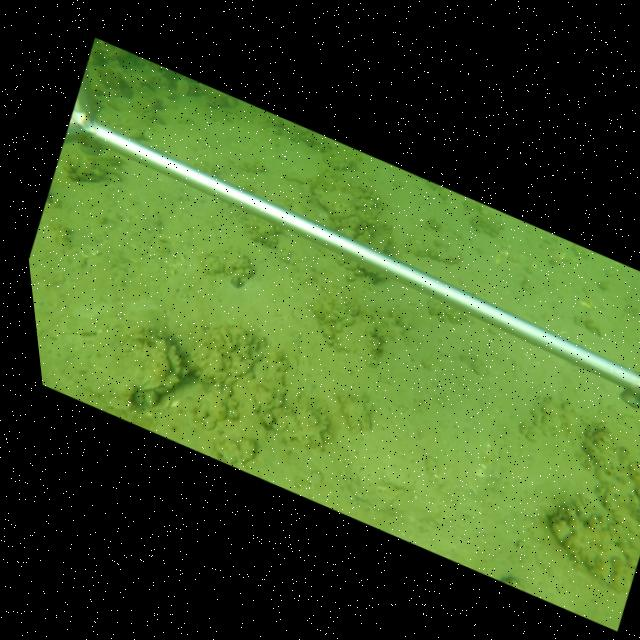Oyster-Closed: (143, 387, 158, 412), (150, 381, 171, 396)
Oyster-Indeterminate: (111, 334, 185, 393)
